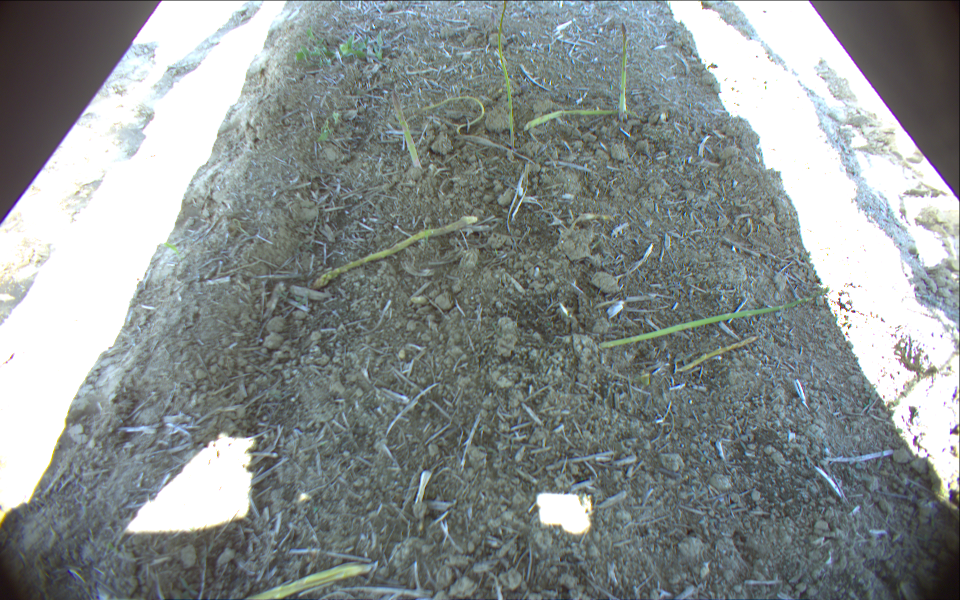aspa: (596, 289, 830, 349), (312, 215, 478, 287), (234, 559, 376, 600), (671, 337, 759, 375), (496, 1, 517, 148), (523, 106, 641, 132), (391, 86, 423, 169), (420, 95, 483, 134), (618, 21, 629, 126)
